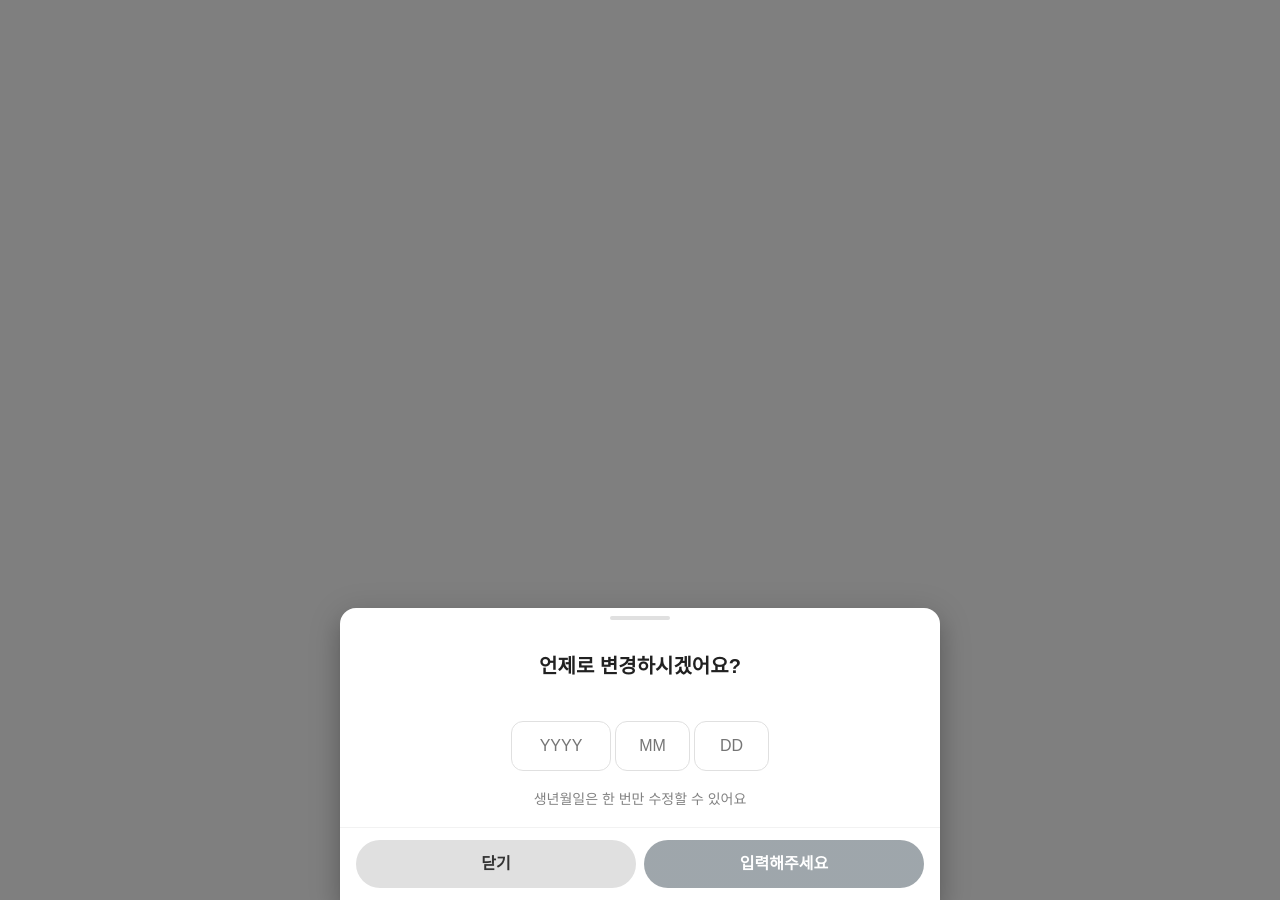
Scenario: 인터랙션 테스트 › month input에는 12까지만 입력된다.
In the field with placeholder "MM": point(652, 746) [615,721,690,771], type "13"
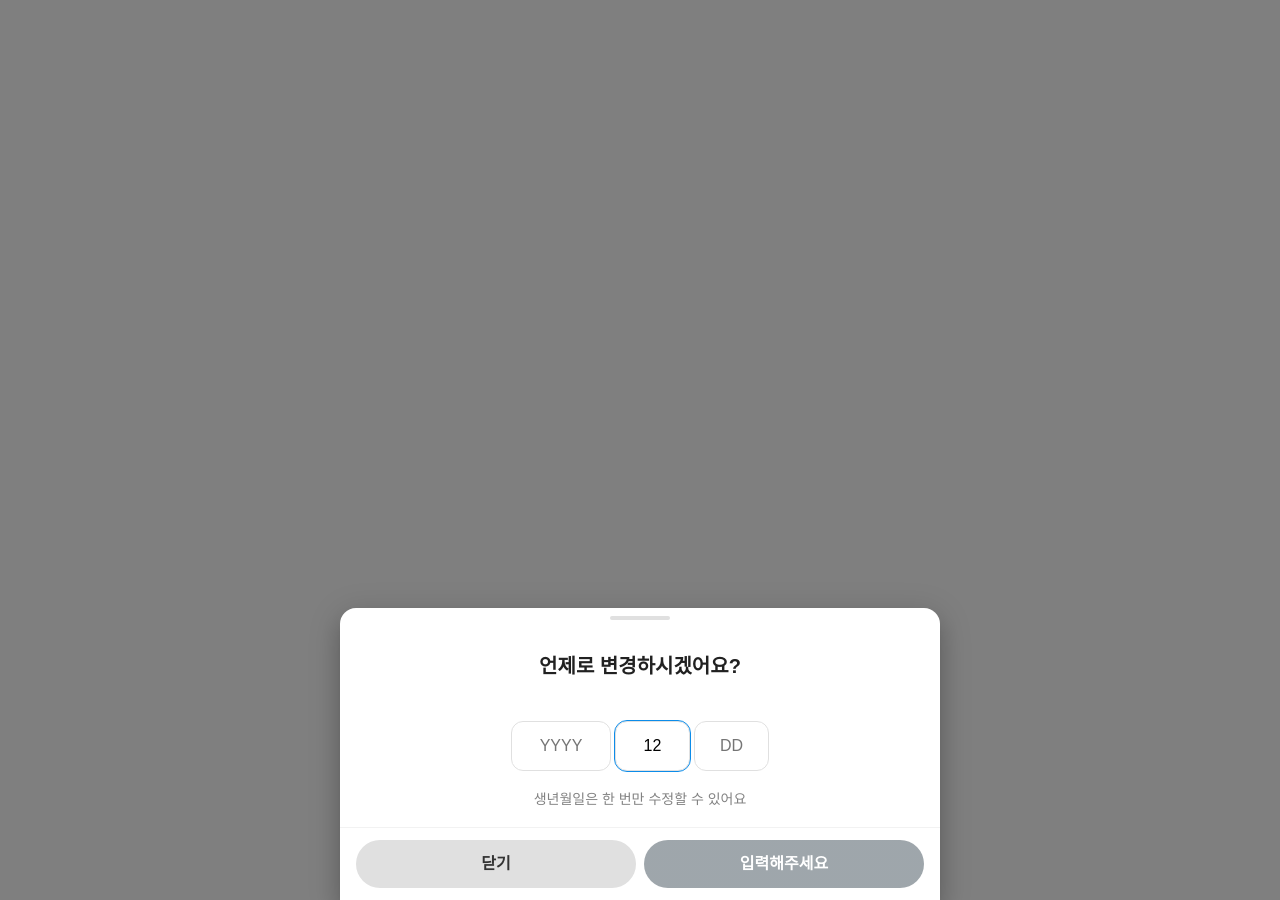
Expected: the field with placeholder "MM" holds "12", [615,721,690,771]
